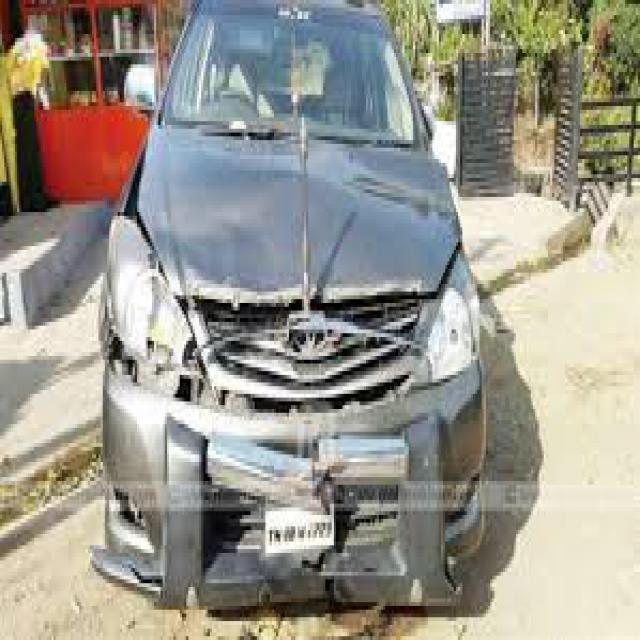Headlight-Damage: (99, 220, 178, 402)
bonnet-dent: (141, 125, 454, 303)
front-bumper-dent: (85, 424, 500, 617)
